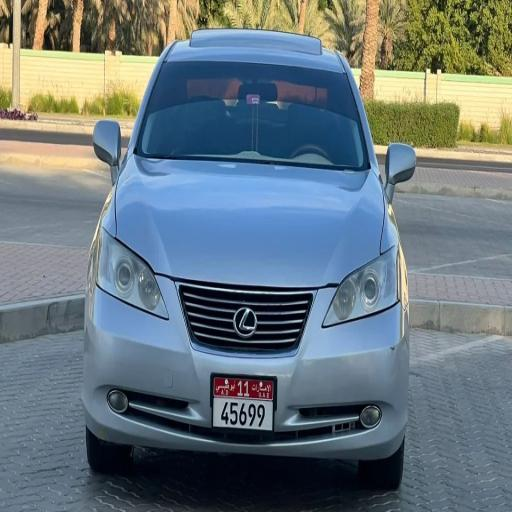license-plates: (213, 378, 274, 430)
